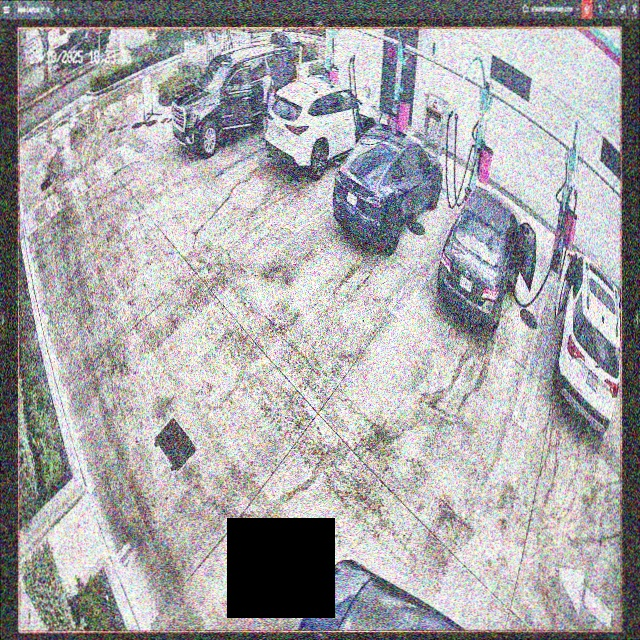Car: (334, 121, 442, 252), (438, 186, 535, 325), (266, 79, 376, 177)
